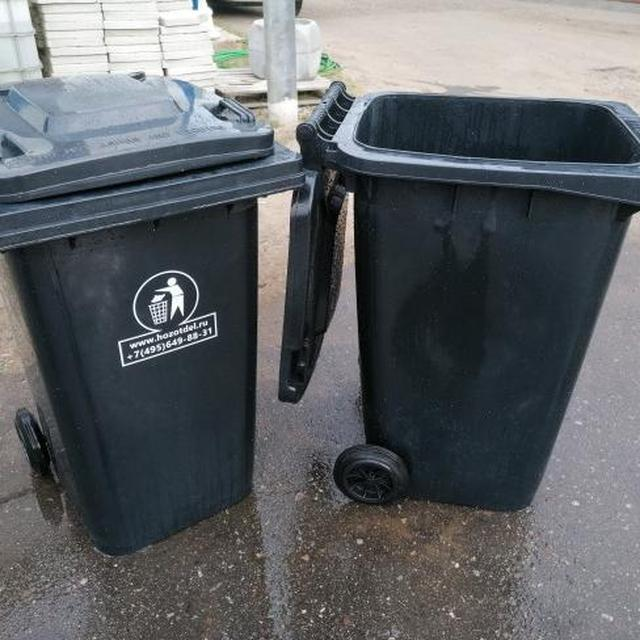Trash_Can_Closed: (0, 72, 304, 558)
Trash_Can_Empty: (333, 88, 640, 512)
